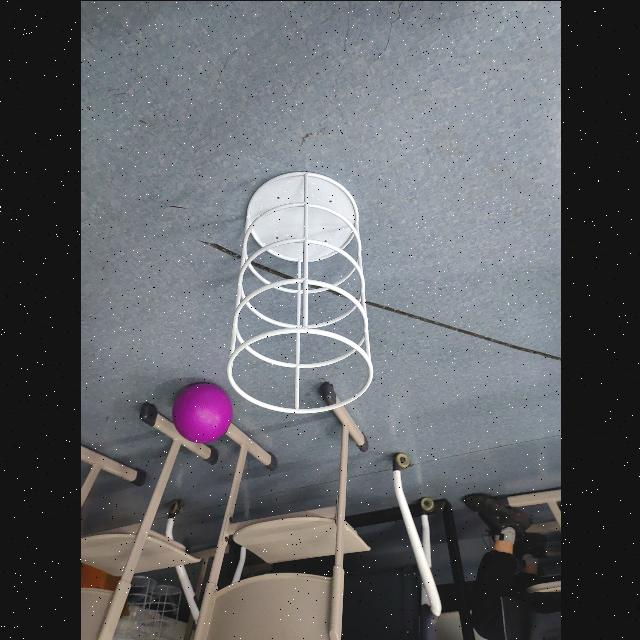S: (220, 166, 374, 417)
